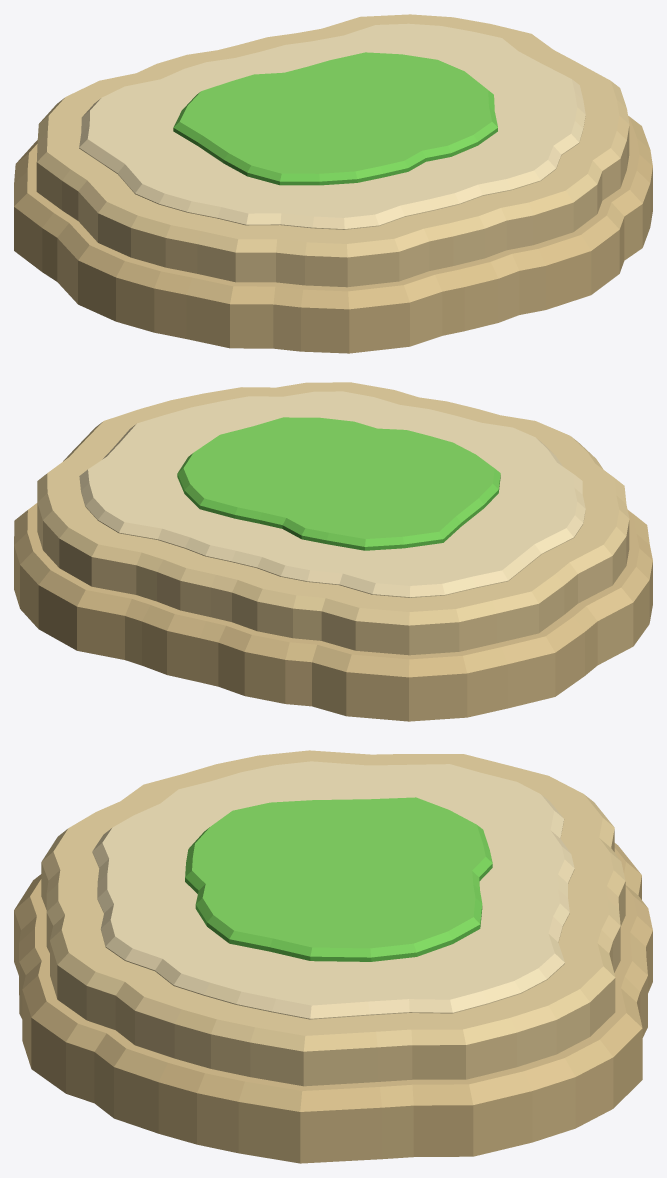
Rendered from Islet_2.glb.
3 renders of one model, top to bottom at view 1: azimuth 30°, elevation 25°; view 2: azimuth 150°, elevation 25°; view 3: azimuth 270°, elevation 25°, orthographic. The views are drawn at different scales.
Visible parts, largest first — view 1: Islet_2; view 2: Islet_2; view 3: Islet_2.
Boxes of the visible parts, bbox=[...] form: Islet_2: bbox=[14, 14, 652, 353]; Islet_2: bbox=[14, 382, 652, 721]; Islet_2: bbox=[14, 750, 652, 1163].
Size of the model in its own units: 38.47 by 7.4 by 32.59.
1 material, 1 textured.
